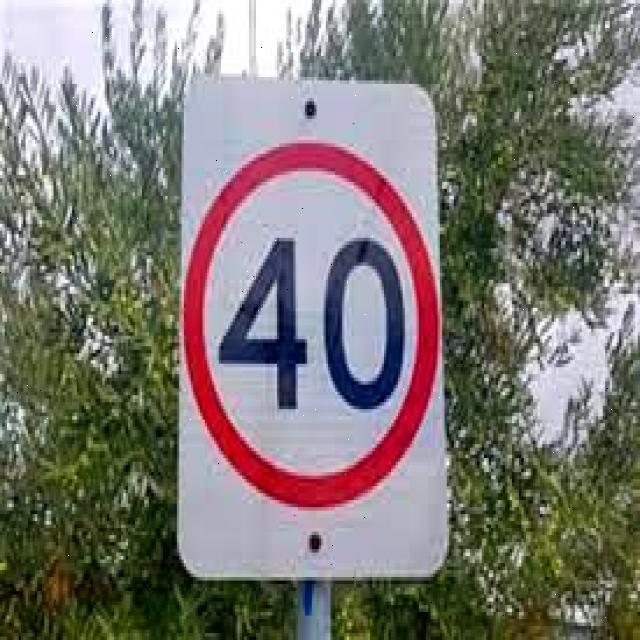speed limit 40: (183, 141, 439, 507)
